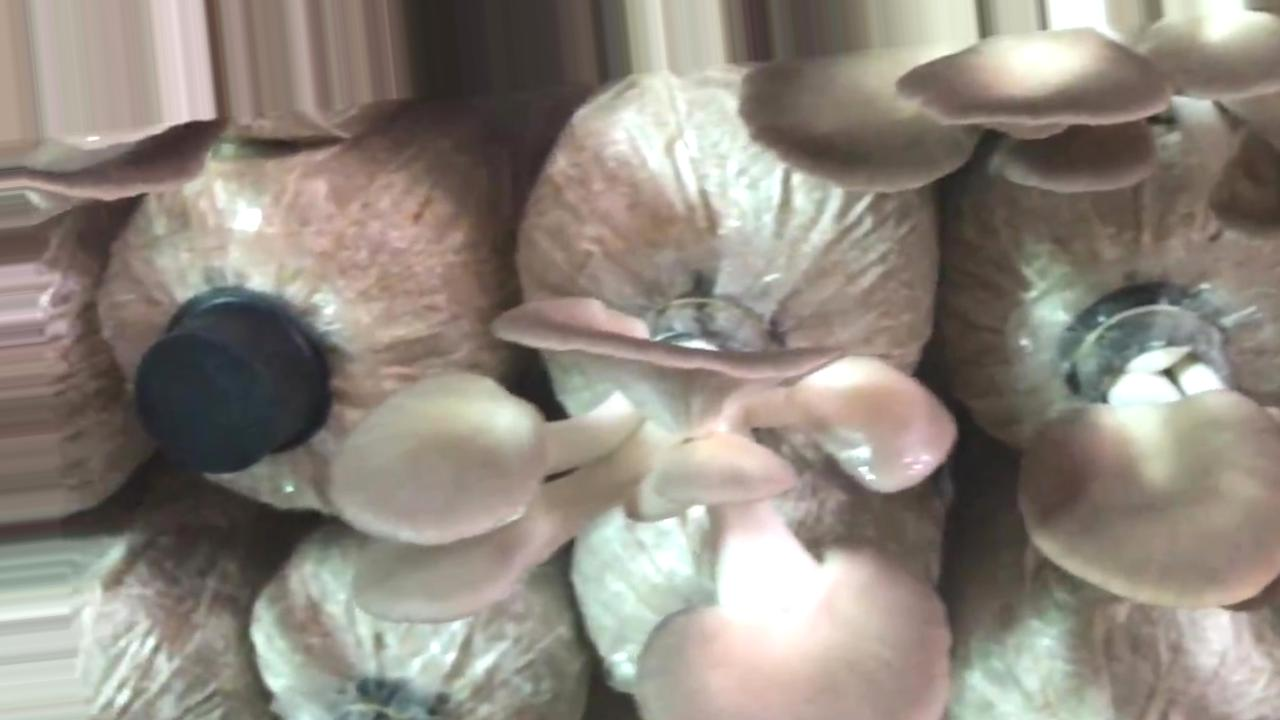nam: (324, 282, 951, 720), (750, 1, 1272, 200), (1024, 285, 1280, 610)
